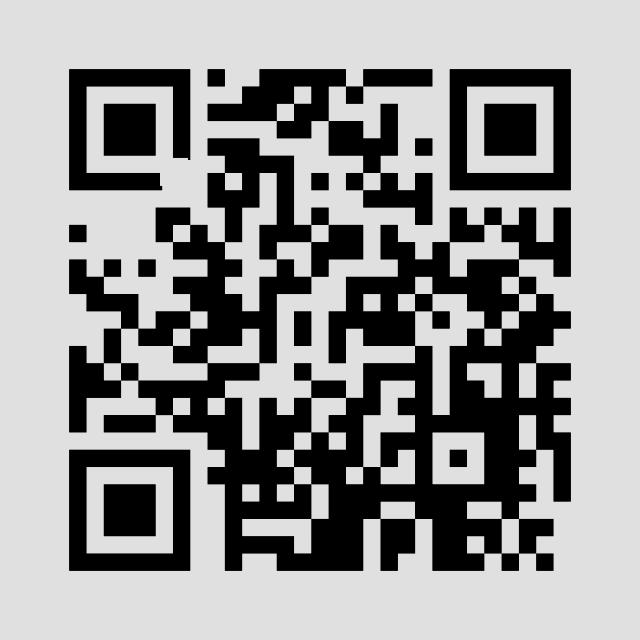QRCode: (54, 53, 596, 598)
